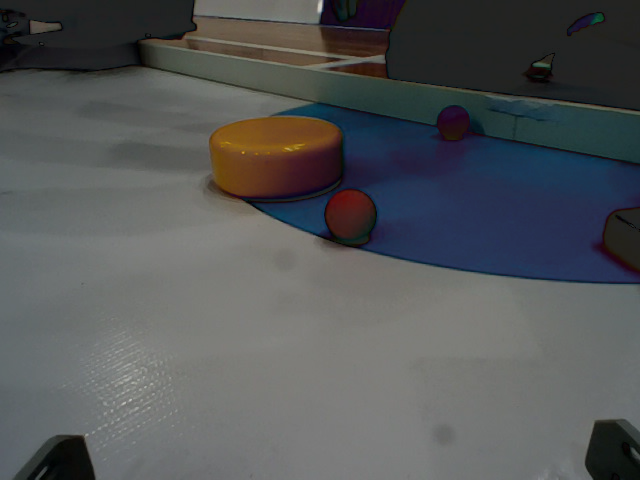black: (603, 205, 640, 268)
blue: (435, 105, 469, 133)
red: (327, 191, 375, 249)
yellow: (208, 116, 347, 200)
